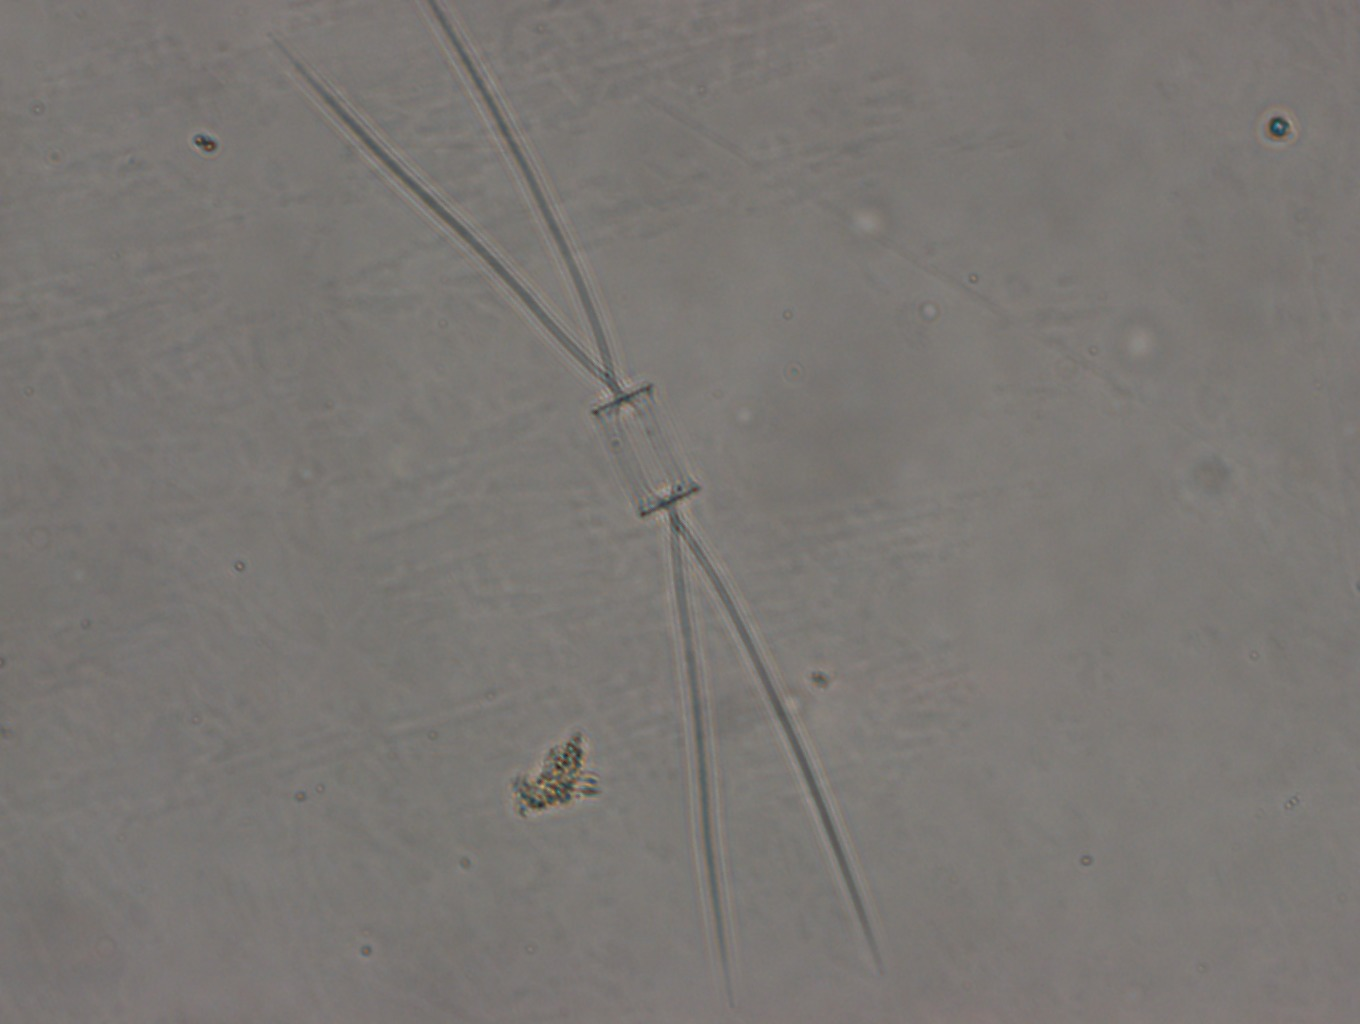chaetoceros: (264, 5, 887, 1006)
